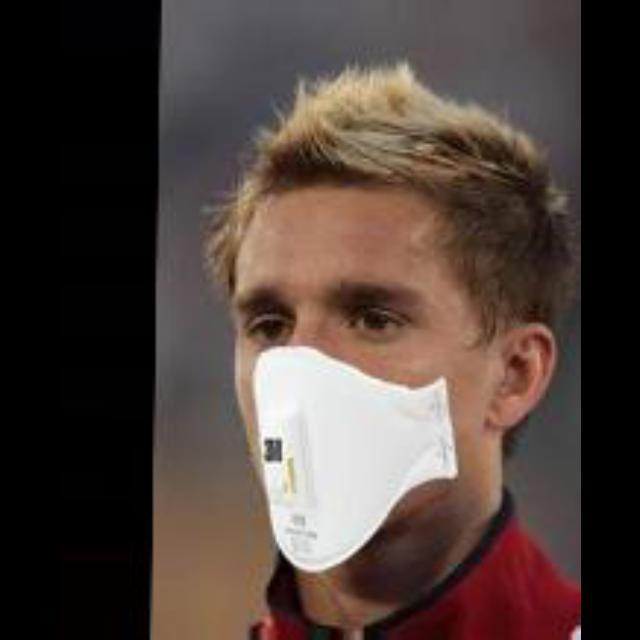suspicion: (222, 141, 500, 563)
